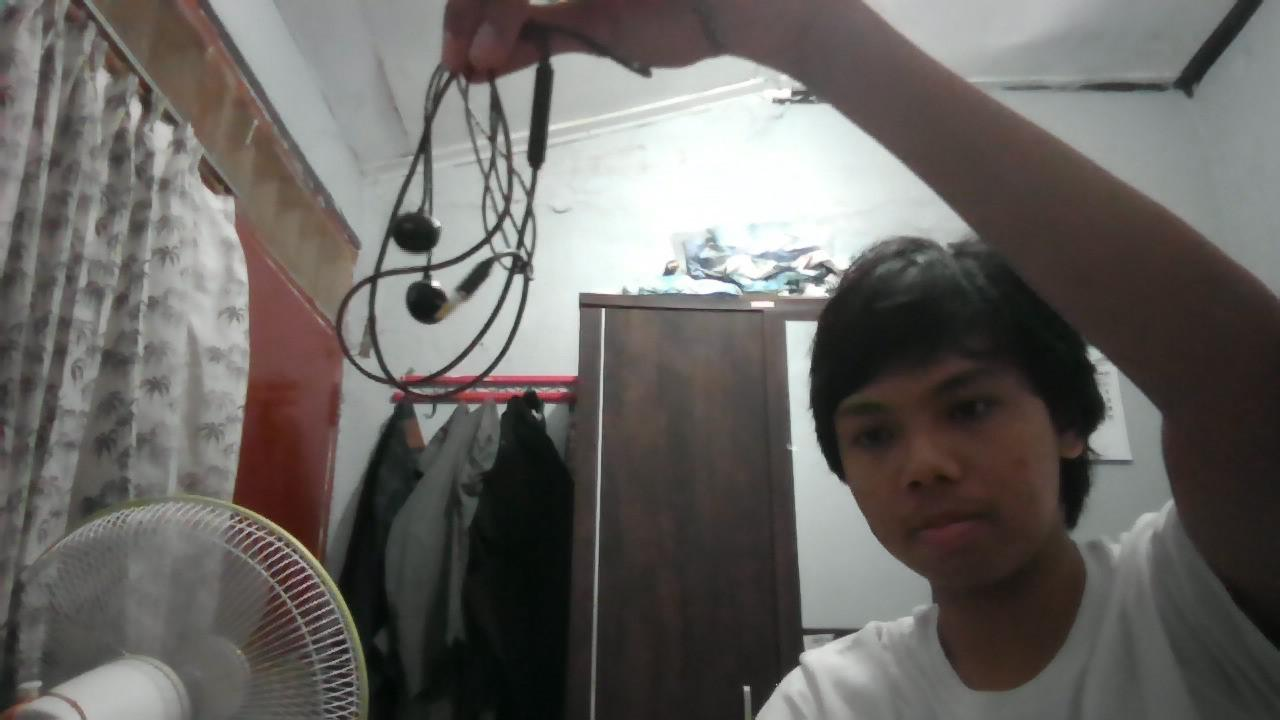Earphone: (397, 250, 502, 326), (385, 177, 451, 248)
